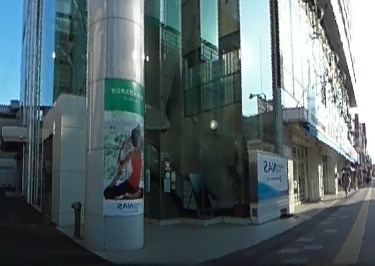person: (339, 165, 350, 193)
